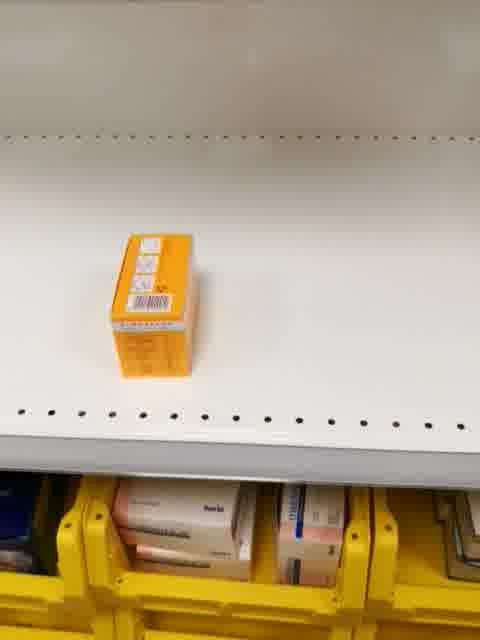jasminetea: (107, 232, 197, 379)
